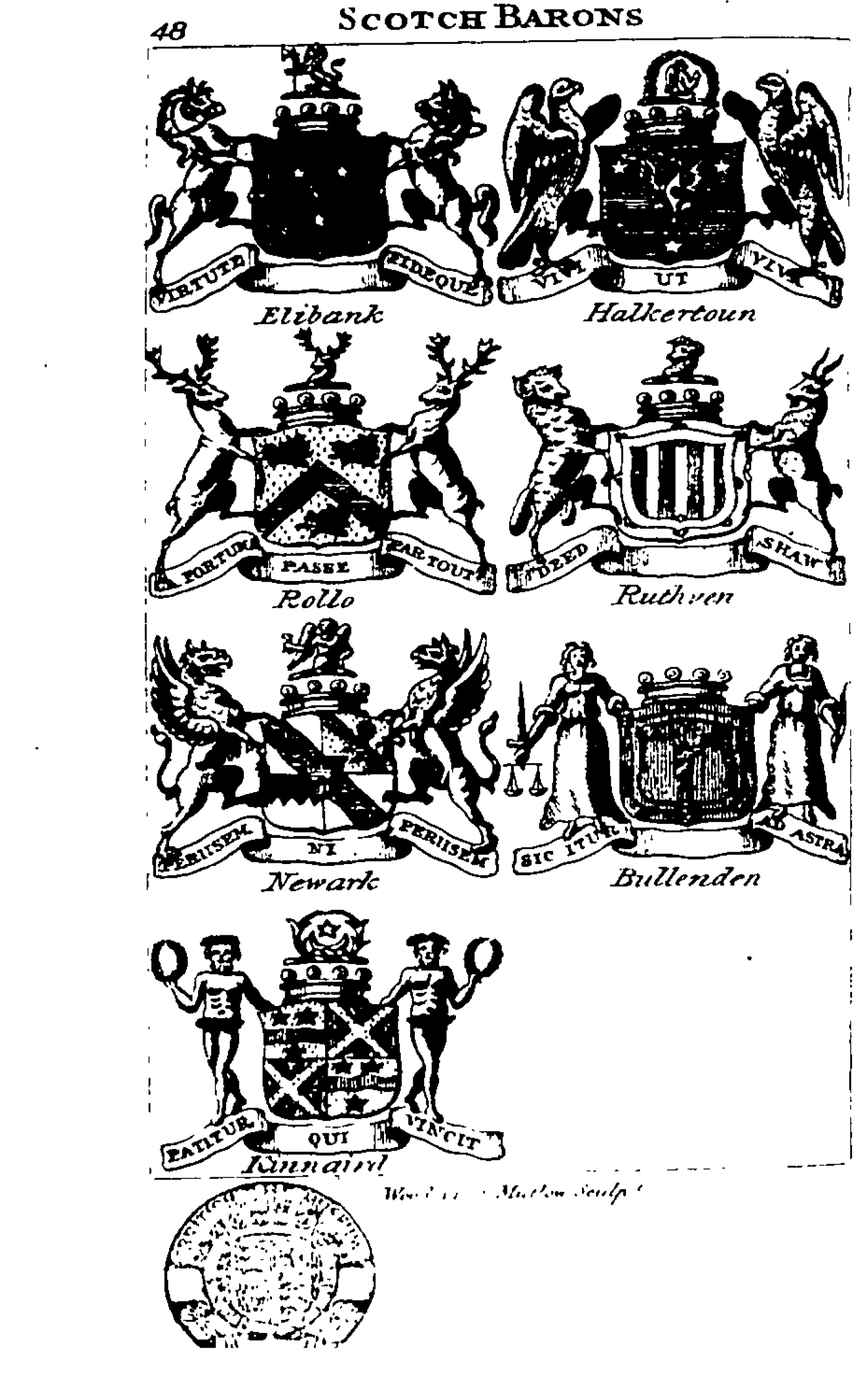coat_of_arms: (136, 611, 510, 910), (137, 914, 523, 1181), (495, 50, 856, 334), (492, 609, 853, 893), (495, 332, 855, 616), (147, 333, 507, 611), (153, 54, 500, 332)
